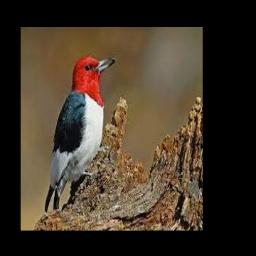Woodpecker: (44, 56, 115, 213)
